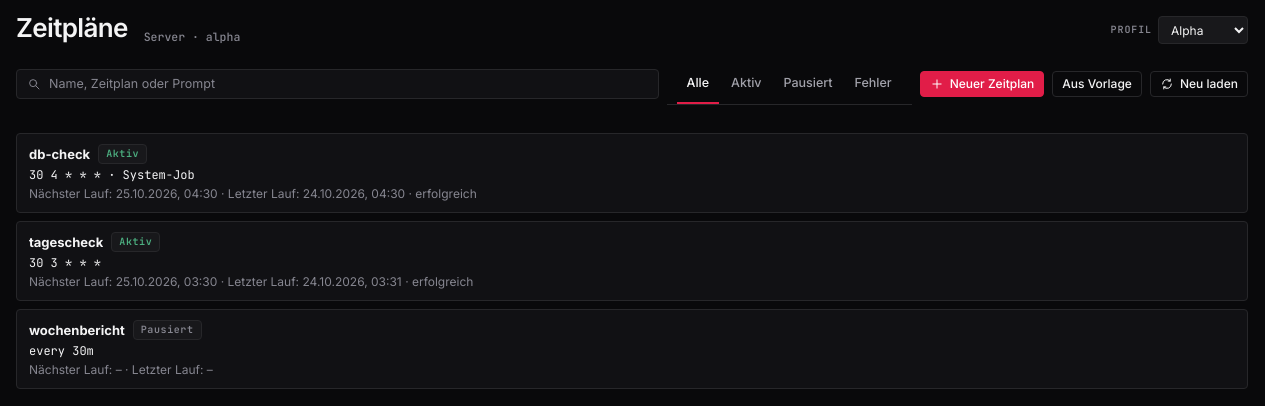
it: Zeitpläne › filters by status and by text and says so when nothing matches
The width and height of the screenshot is (1265, 406).
Expected: the button "tagescheck" is shown, [16, 221, 1248, 301]
Click the button "Pausiert" at (808, 83), box [774, 62, 843, 104]
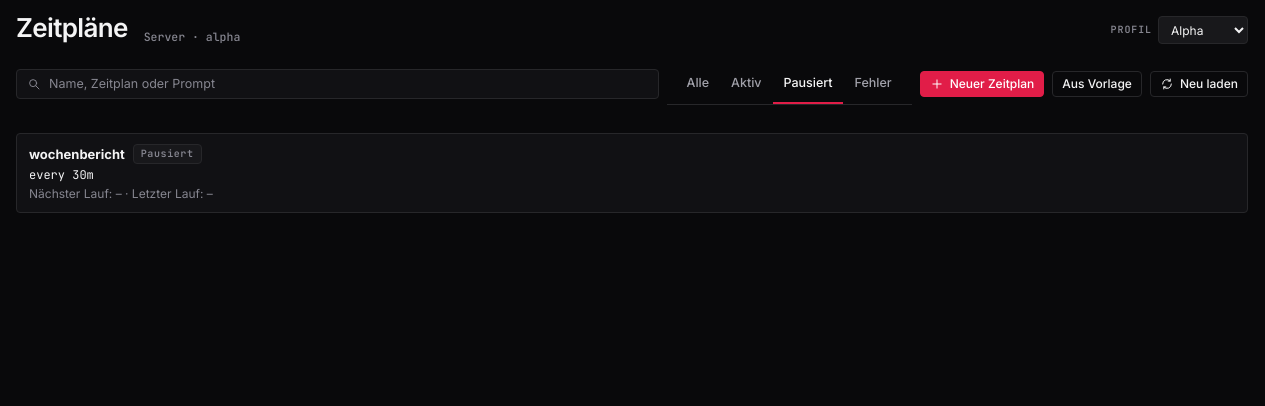
Expected: the button "wochenbericht" is shown, [16, 133, 1248, 213]
Result: the button "tagescheck" is gone
Click the button "Alle" at (698, 83), box [676, 62, 719, 104]
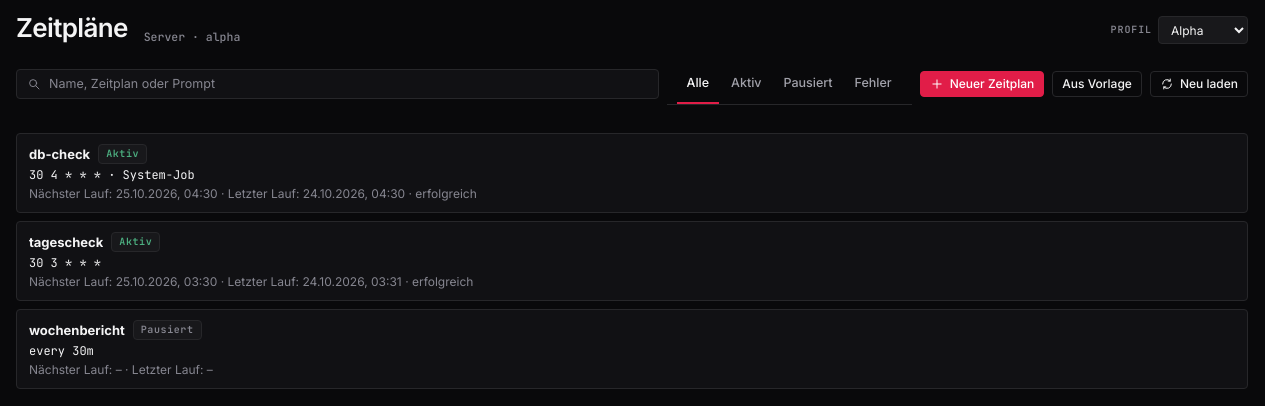
Type "gibtsnicht" into the field named "Zeitpläne filtern" at (348, 84), box [49, 70, 648, 98]
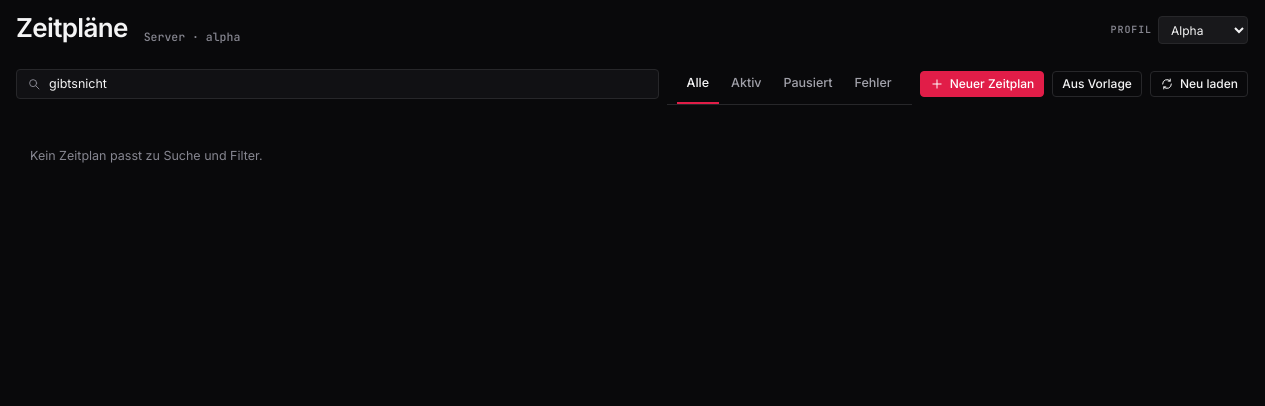
Result: the text "Kein Zeitplan passt zu Suche und Filter." is shown at [30, 148, 262, 163]
